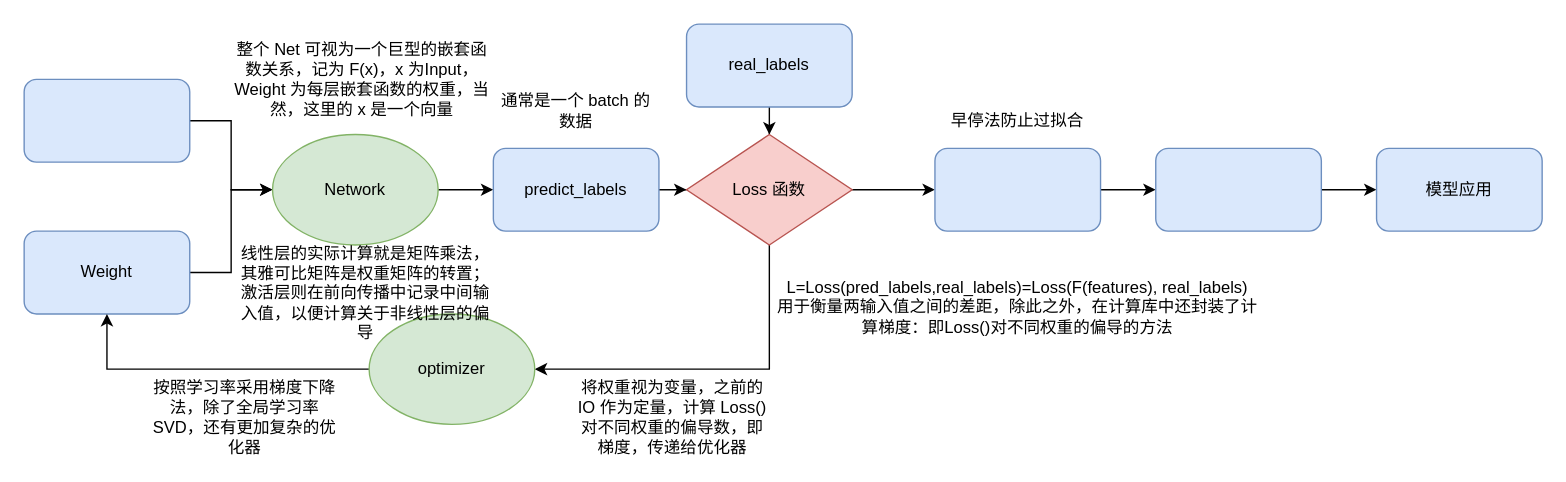
This 1566x482 diagram has some shape labels left out. The centre of each missing label's shape, as x and y in pixels:
"Features（Input）" belongs at [106,120].
"模型测试阶段" belongs at [1237,189].
"模型验证阶段(若有)" belongs at [1017,189].
